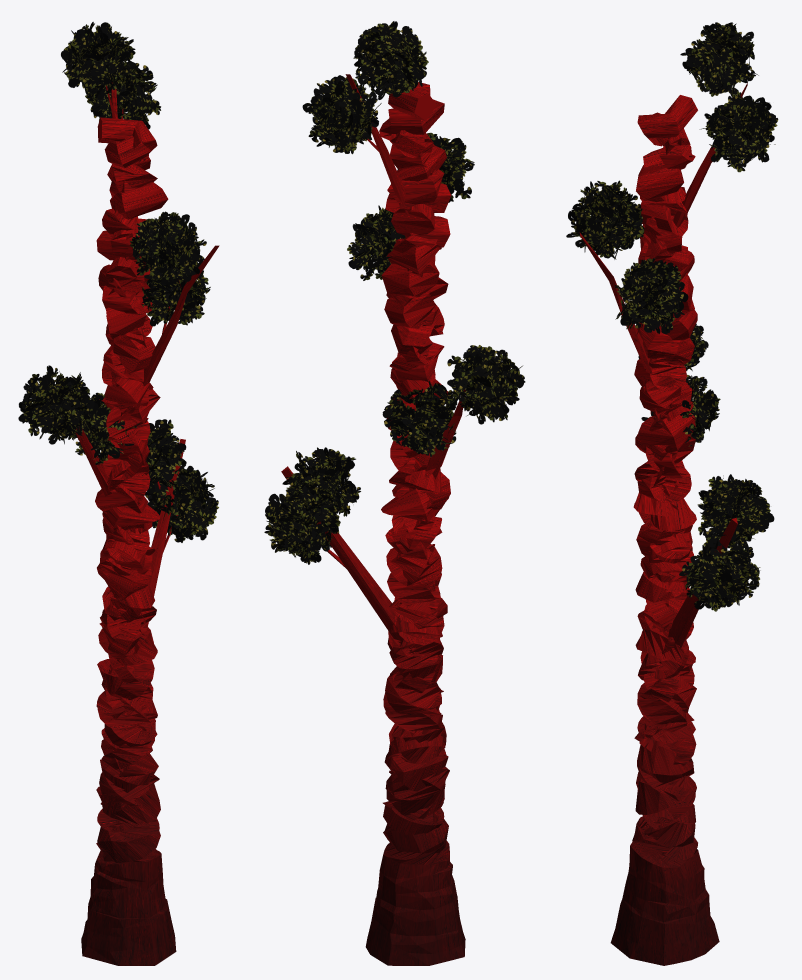
Rendered from deadwood_snag_v01_LOD1.glb.
3 renders of one model, left to right at view 1: azimuth 30°, elevation 25°; view 2: azimuth 150°, elevation 25°; view 3: azimuth 270°, elevation 25°, orthographic. The views are drawn at different scales.
Visible parts, largest first — view 1: deadwood_snag_v01_LOD1; view 2: deadwood_snag_v01_LOD1; view 3: deadwood_snag_v01_LOD1.
Boxes of the visible parts, x1,y1,x2,y2 form: deadwood_snag_v01_LOD1: [18, 22, 219, 965]; deadwood_snag_v01_LOD1: [264, 21, 525, 965]; deadwood_snag_v01_LOD1: [566, 22, 778, 965].
Size of the model in its own units: 4.06 by 15.7 by 3.49.
Materials: 2 (2 with a texture image).
